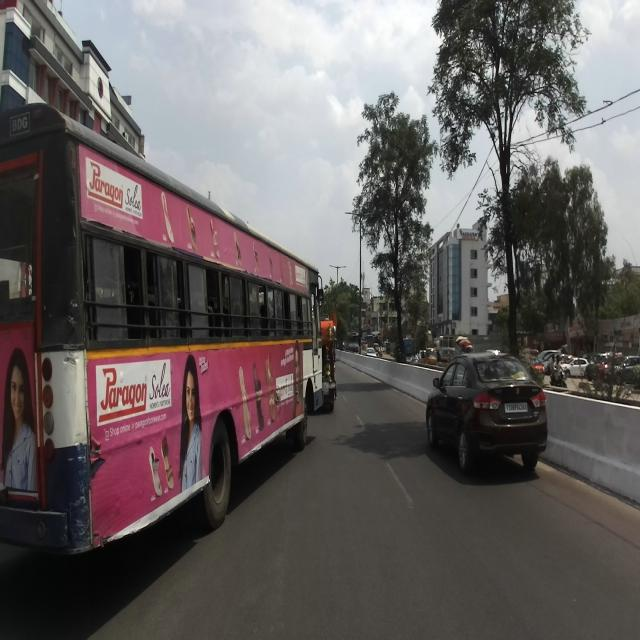Car_Maruti-Suzuki: (425, 351, 548, 475)
bus: (1, 100, 324, 555)
